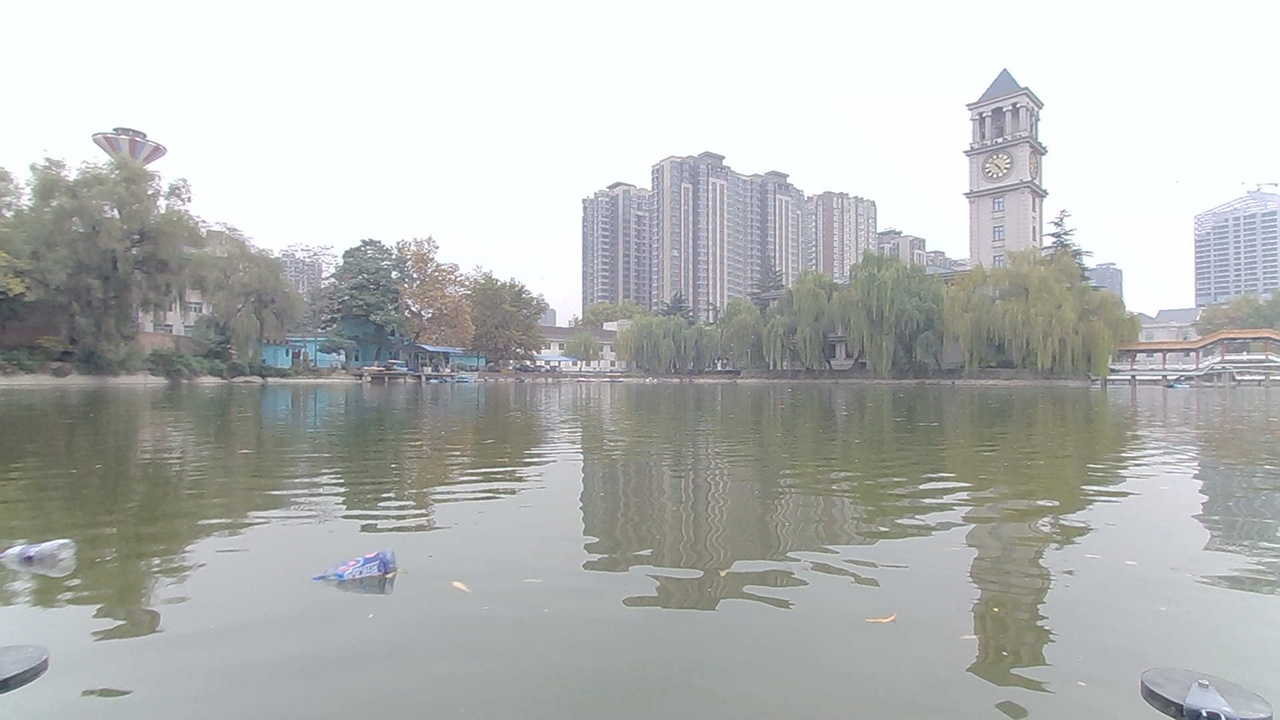bottle: (3, 523, 91, 589), (317, 537, 408, 595)
